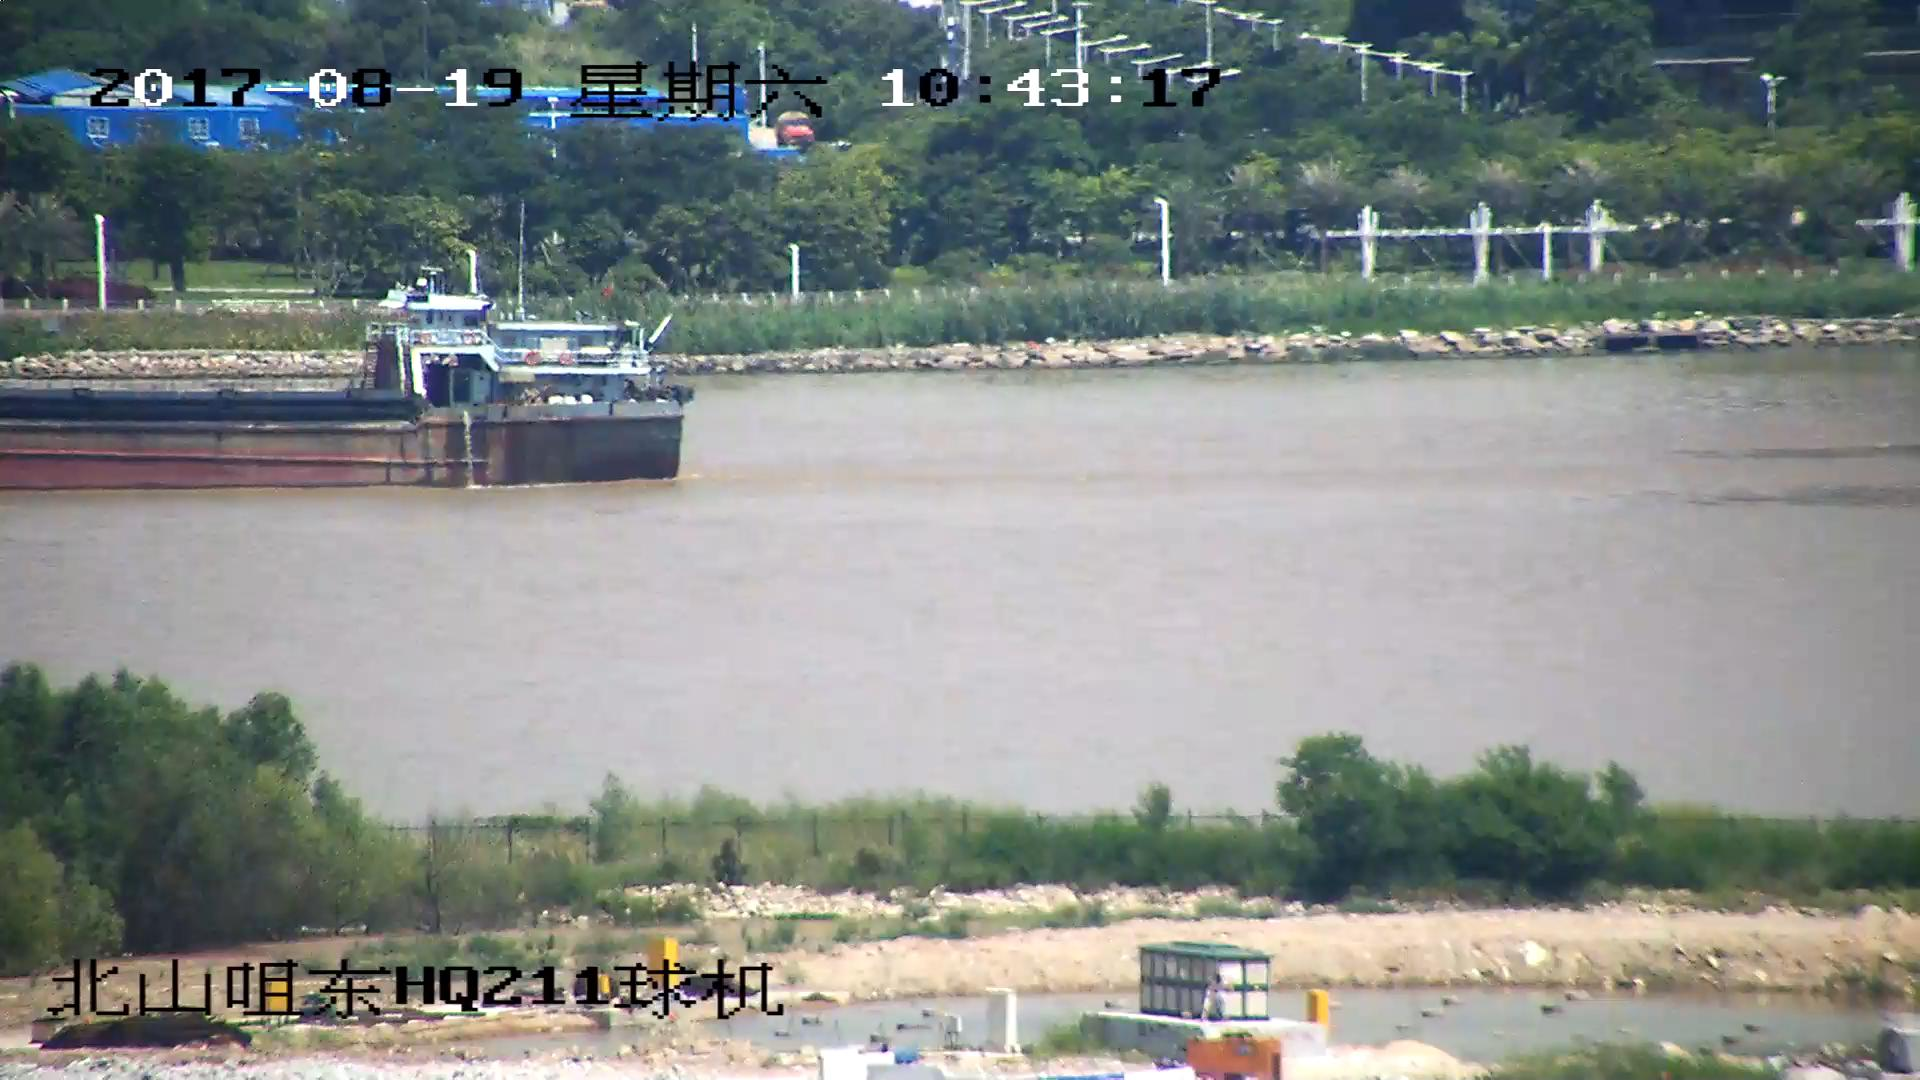bulk cargo carrier: (1, 261, 685, 488)
